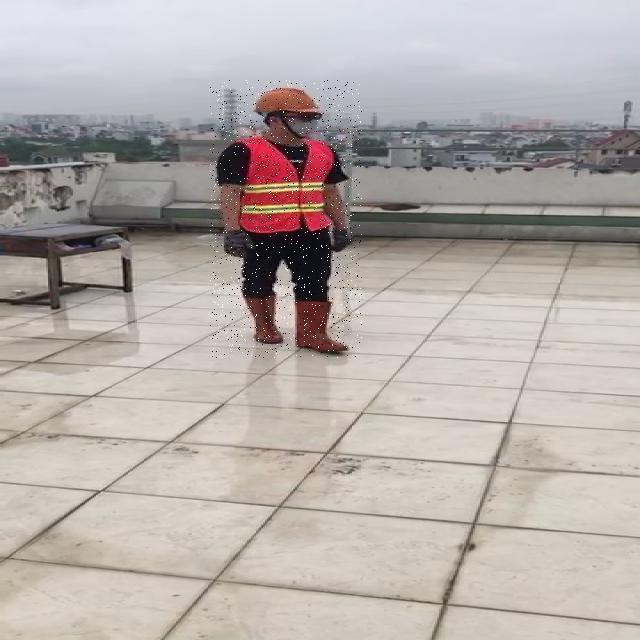gloves: (223, 228, 252, 256), (330, 228, 351, 254)
goggles: (284, 112, 322, 122)
helmet: (250, 87, 320, 115)
safety_vest: (238, 138, 334, 231)
